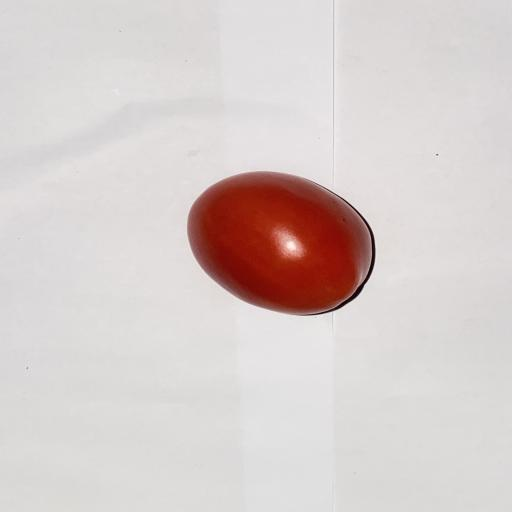ripe: (188, 172, 372, 315)
